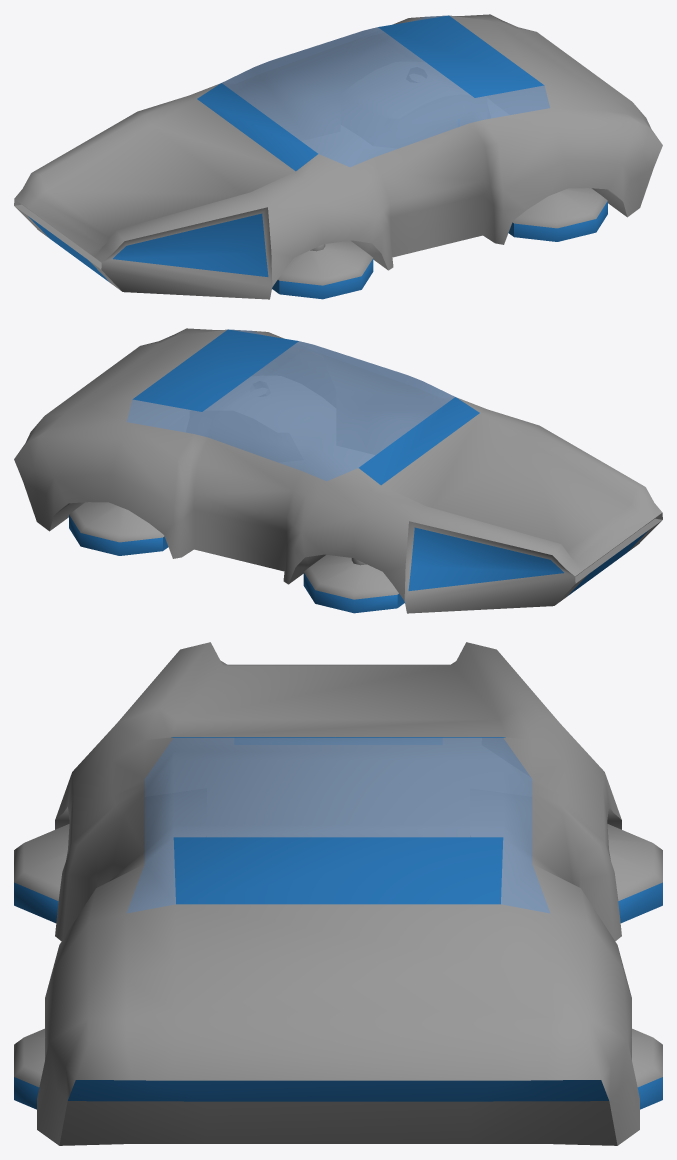
File: car.fbx
3 views of the same model, one above another, from view 1: azimuth 30°, elevation 25°; view 2: azimuth 150°, elevation 25°; view 3: azimuth 270°, elevation 25° (orthographic). The views are drawn at different scales.
Visible parts, largest first — view 1: car001; view 2: car001; view 3: car001.
Part boxes in pixels (left/top/right/bottom): car001: left=14, top=14, right=662, bottom=299; car001: left=14, top=328, right=662, bottom=613; car001: left=14, top=642, right=662, bottom=1145.
Bounding box in the file's own units: 5.31 × 1.15 × 3.26.
